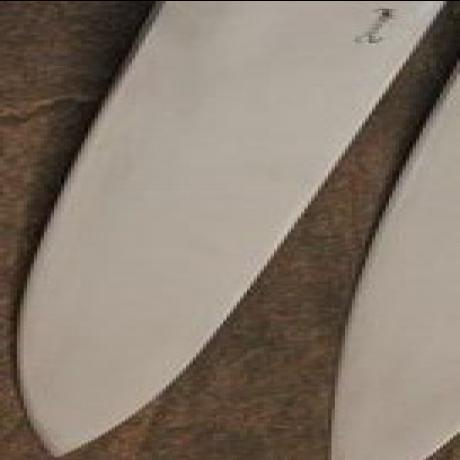weapon: (0, 0, 446, 458)
